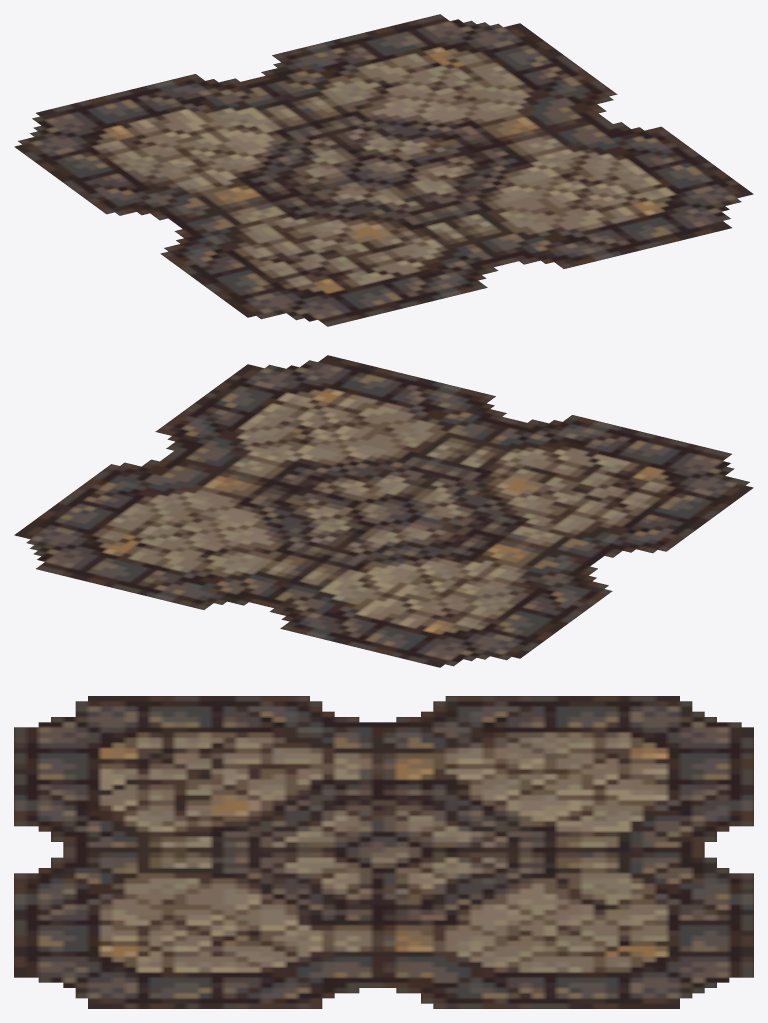
The model's file is ObjMD_Floorpattern_Plain_A.FBX.
3 views of the same model, one above another, from view 1: azimuth 30°, elevation 25°; view 2: azimuth 150°, elevation 25°; view 3: azimuth 270°, elevation 25° (orthographic). The views are drawn at different scales.
Visible parts, largest first — view 1: ObjMD_Floorpattern_Plain_A; view 2: ObjMD_Floorpattern_Plain_A; view 3: ObjMD_Floorpattern_Plain_A.
Part boxes in pixels (<box>): ObjMD_Floorpattern_Plain_A: <box>14,14,753,326</box>; ObjMD_Floorpattern_Plain_A: <box>14,355,753,667</box>; ObjMD_Floorpattern_Plain_A: <box>14,696,753,1008</box>.
Bounding box in the file's own units: 375 × 2.31e-14 × 375.
